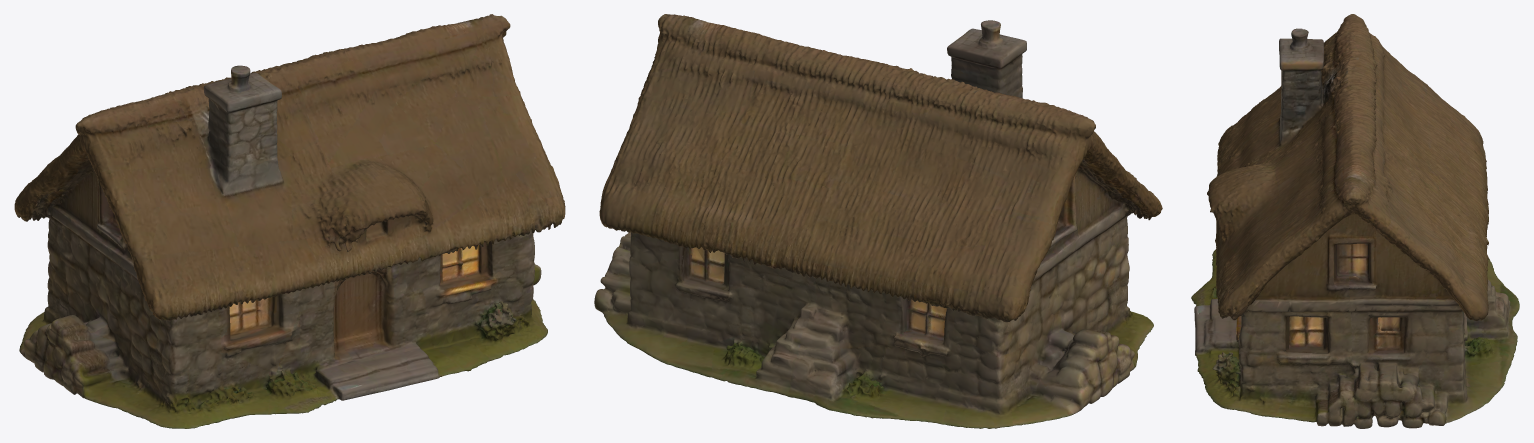
The model's file is house-2-opt.glb.
3 renders of one model, left to right at view 1: azimuth 30°, elevation 25°; view 2: azimuth 150°, elevation 25°; view 3: azimuth 270°, elevation 25°, orthographic. The views are drawn at different scales.
Bounding box in the file's own units: 1.99 × 1.25 × 1.38.
1 material, 1 textured.
